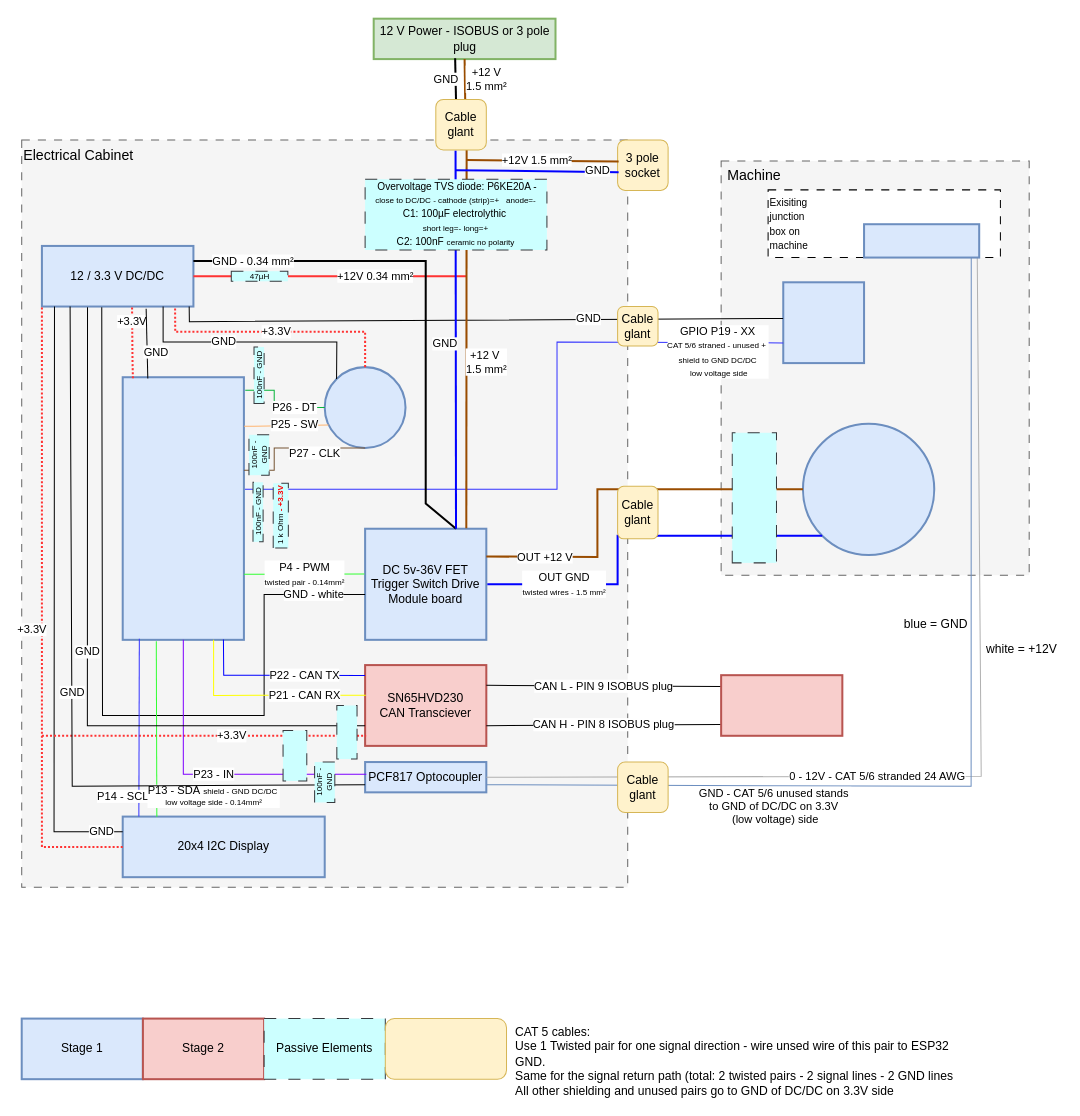
Image size: 1080x1116. Some labels were removed from this diagram. Each missing label, with the centre of its shape:
100nF GND - +3.3V: the point at 346,731
25 k Ohm - + 3.3V: the point at 294,755
CCI100: the point at 781,705
Connectors: the point at 445,1048
diode mbr2045 CT P2-OUT=+12V P1,3 OUT= GND: the point at 753,497
ESP32 - Node MCU: the point at 182,508
Inductive Sensor: the point at 921,240
KY-040 encoder: the point at 364,407
Motor 12 V, 10 A: the point at 868,489
Reed Sensor: the point at 823,322
